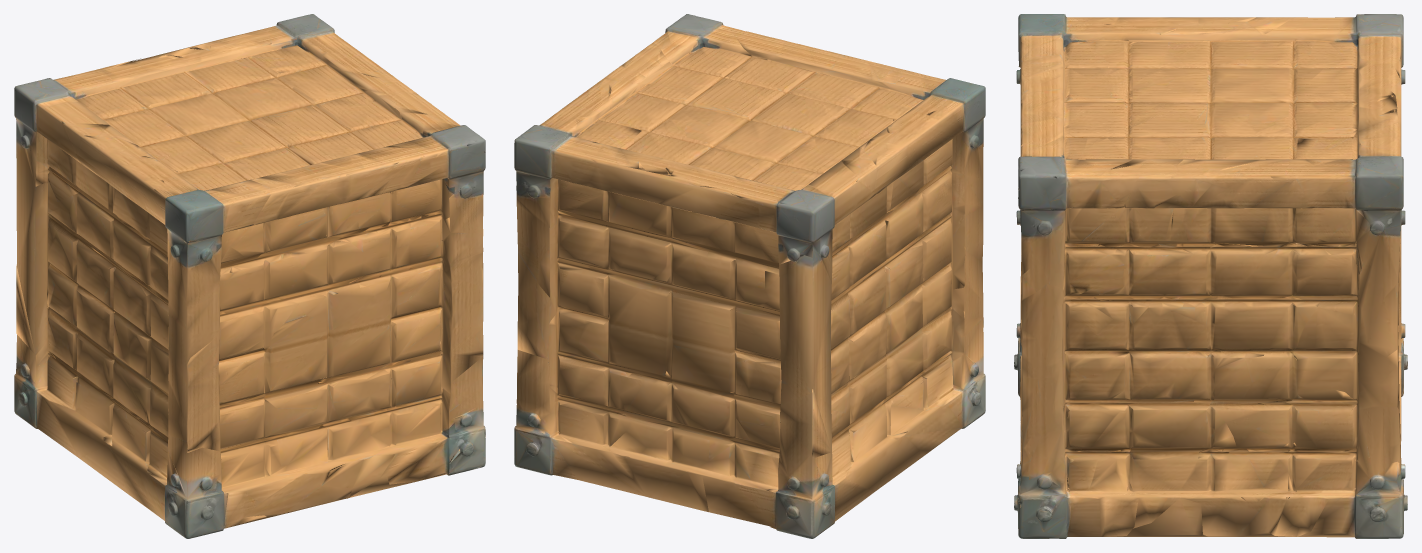
Rendered from prop-crate.glb.
3 views of the same model, side by side, from view 1: azimuth 30°, elevation 25°; view 2: azimuth 150°, elevation 25°; view 3: azimuth 270°, elevation 25° (orthographic). The views are drawn at different scales.
Size of the model in its own units: 1.85 by 1.91 by 1.85.
1 material, 1 textured.
